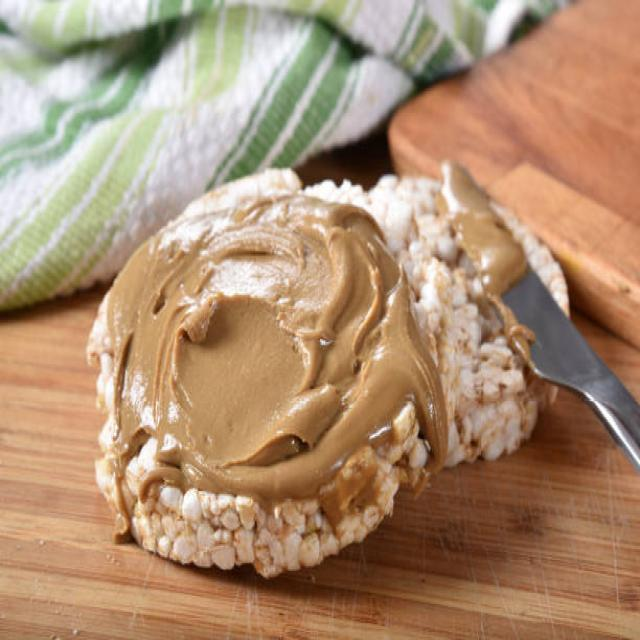Spread: (134, 224, 389, 448)
